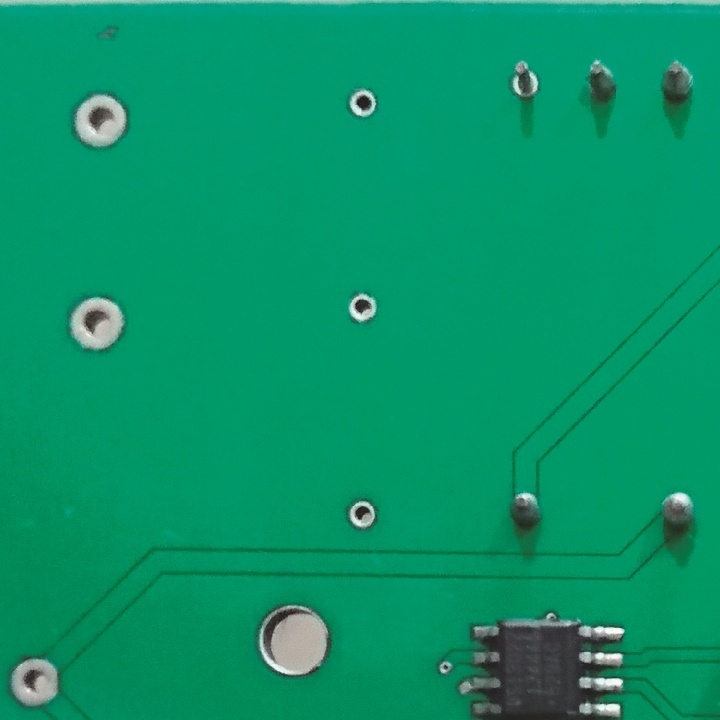F: (62, 292, 129, 355), (69, 91, 132, 151), (8, 651, 65, 710), (505, 58, 542, 105), (344, 83, 384, 123), (344, 493, 379, 535), (345, 290, 379, 326)
